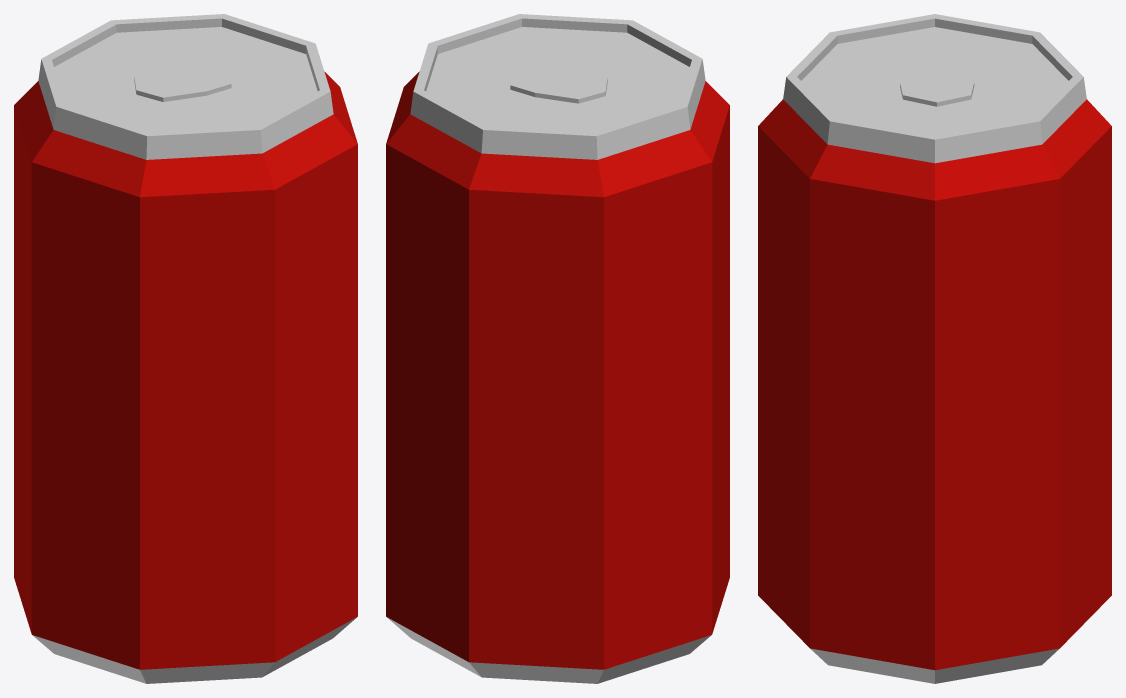
Rendered from C_Juice_Can_1.fbx.
The picture shows the model from 3 angles, left to right: view 1: azimuth 30°, elevation 25°; view 2: azimuth 150°, elevation 25°; view 3: azimuth 270°, elevation 25°; orthographic projection.
Visible parts, largest first — view 1: C_Juice_Can_1; view 2: C_Juice_Can_1; view 3: C_Juice_Can_1.
Part boxes in pixels (x1=…): C_Juice_Can_1: x1=14, y1=14, x2=357, y2=683; C_Juice_Can_1: x1=386, y1=14, x2=729, y2=683; C_Juice_Can_1: x1=758, y1=14, x2=1111, y2=683.
Bounding box in the file's own units: 62.64 × 62.64 × 106.
